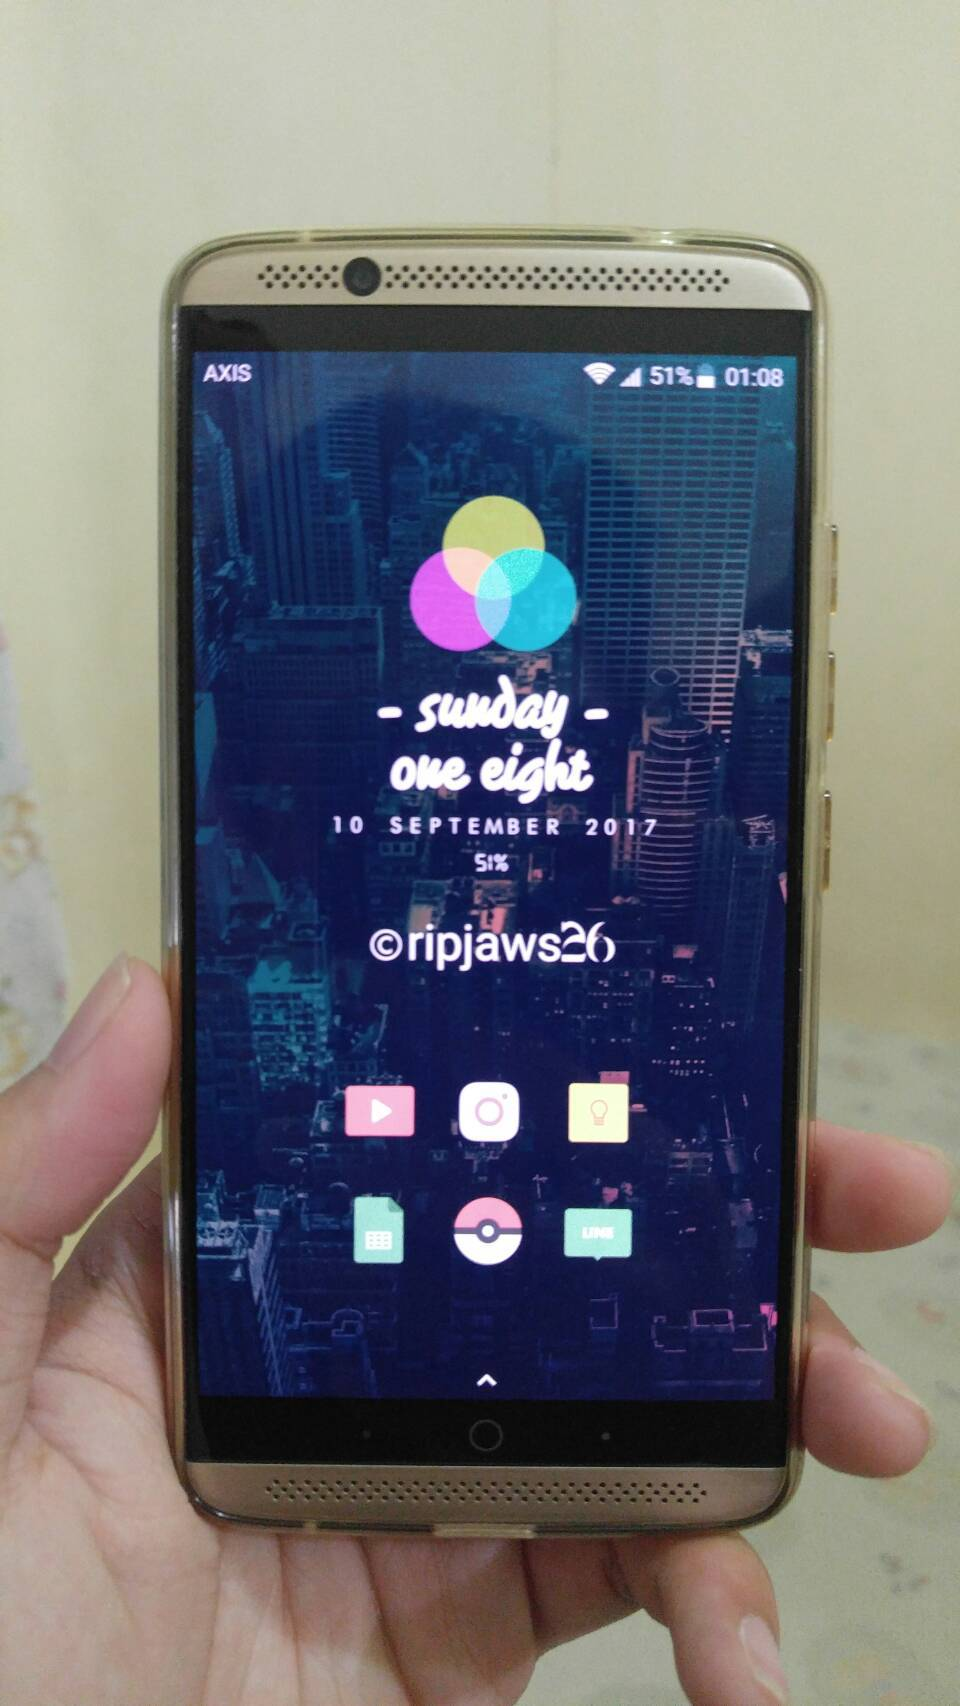Handphone: (147, 213, 851, 1550)
